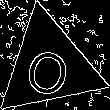O_N: (21, 35, 77, 97)
